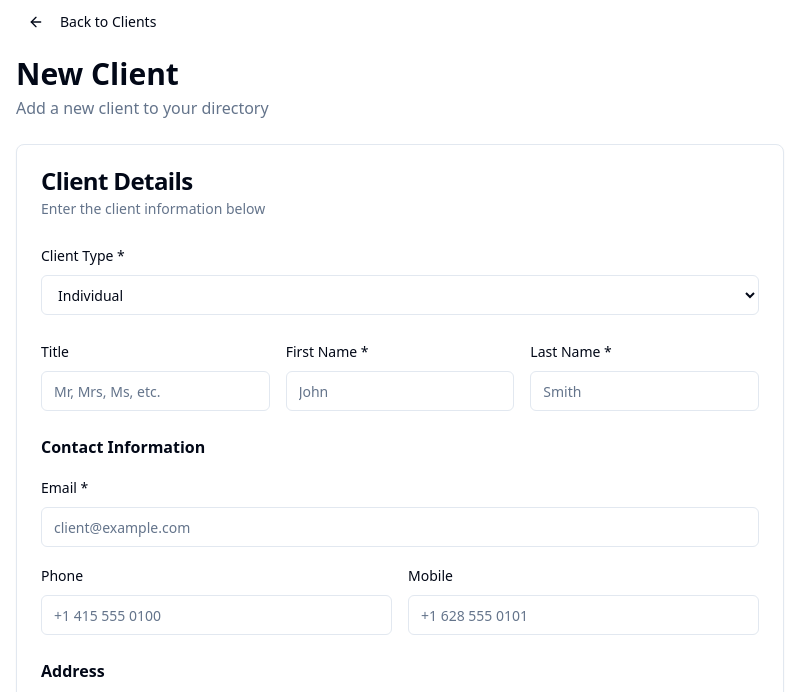
it: NewClientPage › shows company fields when type is changed to company
Select "Company" in the dropdown labelled "Client Type *" at [400, 295], box [41,275,759,315]
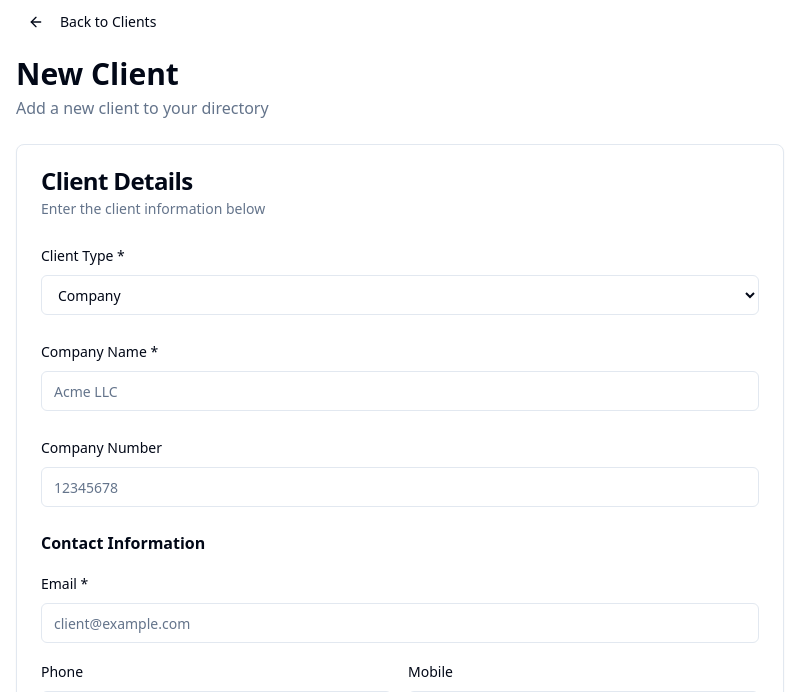
Result: the field labelled "Company Name *" is shown at [41,371,759,411]
Result: the field labelled "Company Number" is shown at [41,467,759,507]
Result: the label labelled "First Name" is gone
